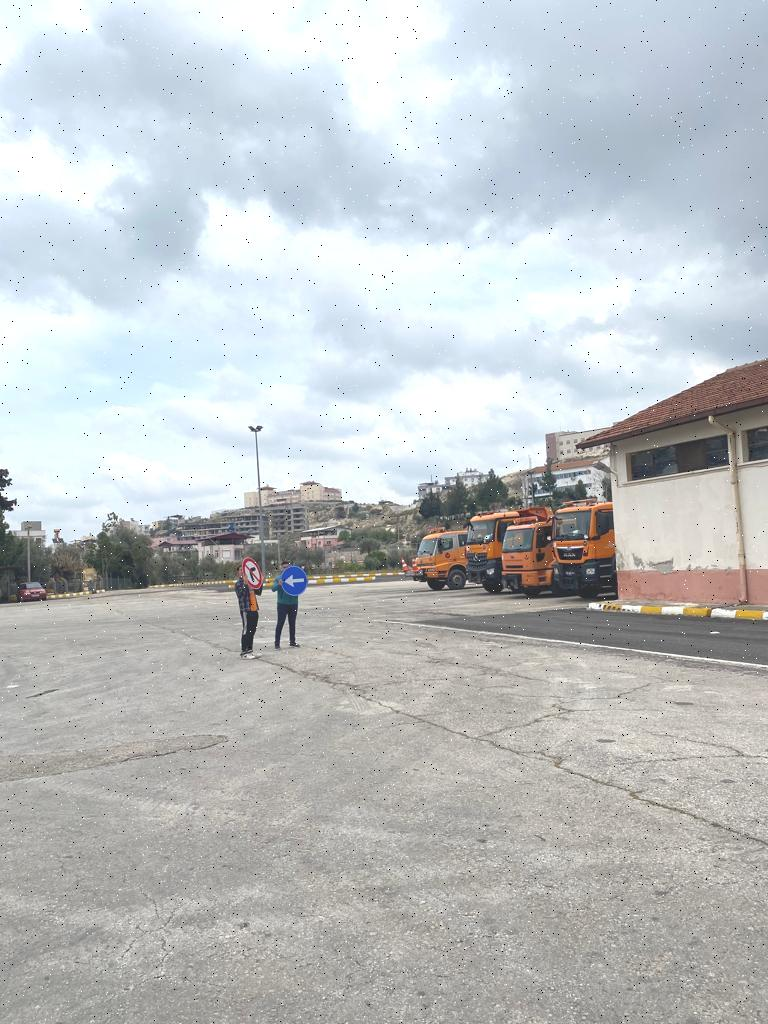rightturnsareforbidden: (242, 556, 262, 589)
turnleft: (283, 566, 309, 594)
